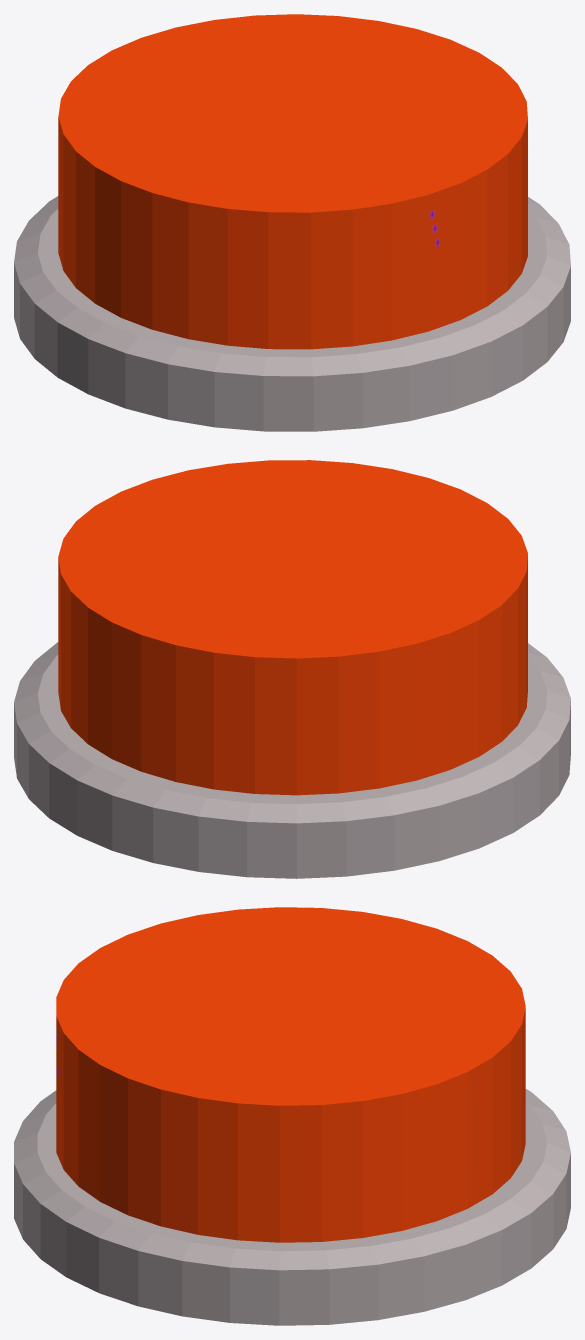
Rendered from Boton.fbx.
3 renders of one model, top to bottom at view 1: azimuth 30°, elevation 25°; view 2: azimuth 150°, elevation 25°; view 3: azimuth 270°, elevation 25°, orthographic.
Visible parts, largest first — view 1: Cylinder.001, Cylinder; view 2: Cylinder.001, Cylinder; view 3: Cylinder.001, Cylinder.
Boxes of the visible parts, left/top/right/bottom form: Cylinder.001: left=58, top=14, right=527, bottom=349; Cylinder: left=14, top=196, right=570, bottom=431; Cylinder.001: left=58, top=460, right=527, bottom=795; Cylinder: left=14, top=642, right=570, bottom=878; Cylinder.001: left=56, top=907, right=525, bottom=1242; Cylinder: left=14, top=1089, right=570, bottom=1325.
Size of the model in its own units: 226 by 90.02 by 226.
